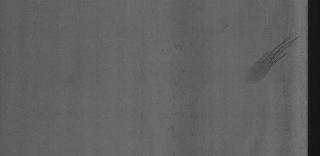silk spot: (162, 21, 216, 143)
water spot: (238, 30, 302, 88)
